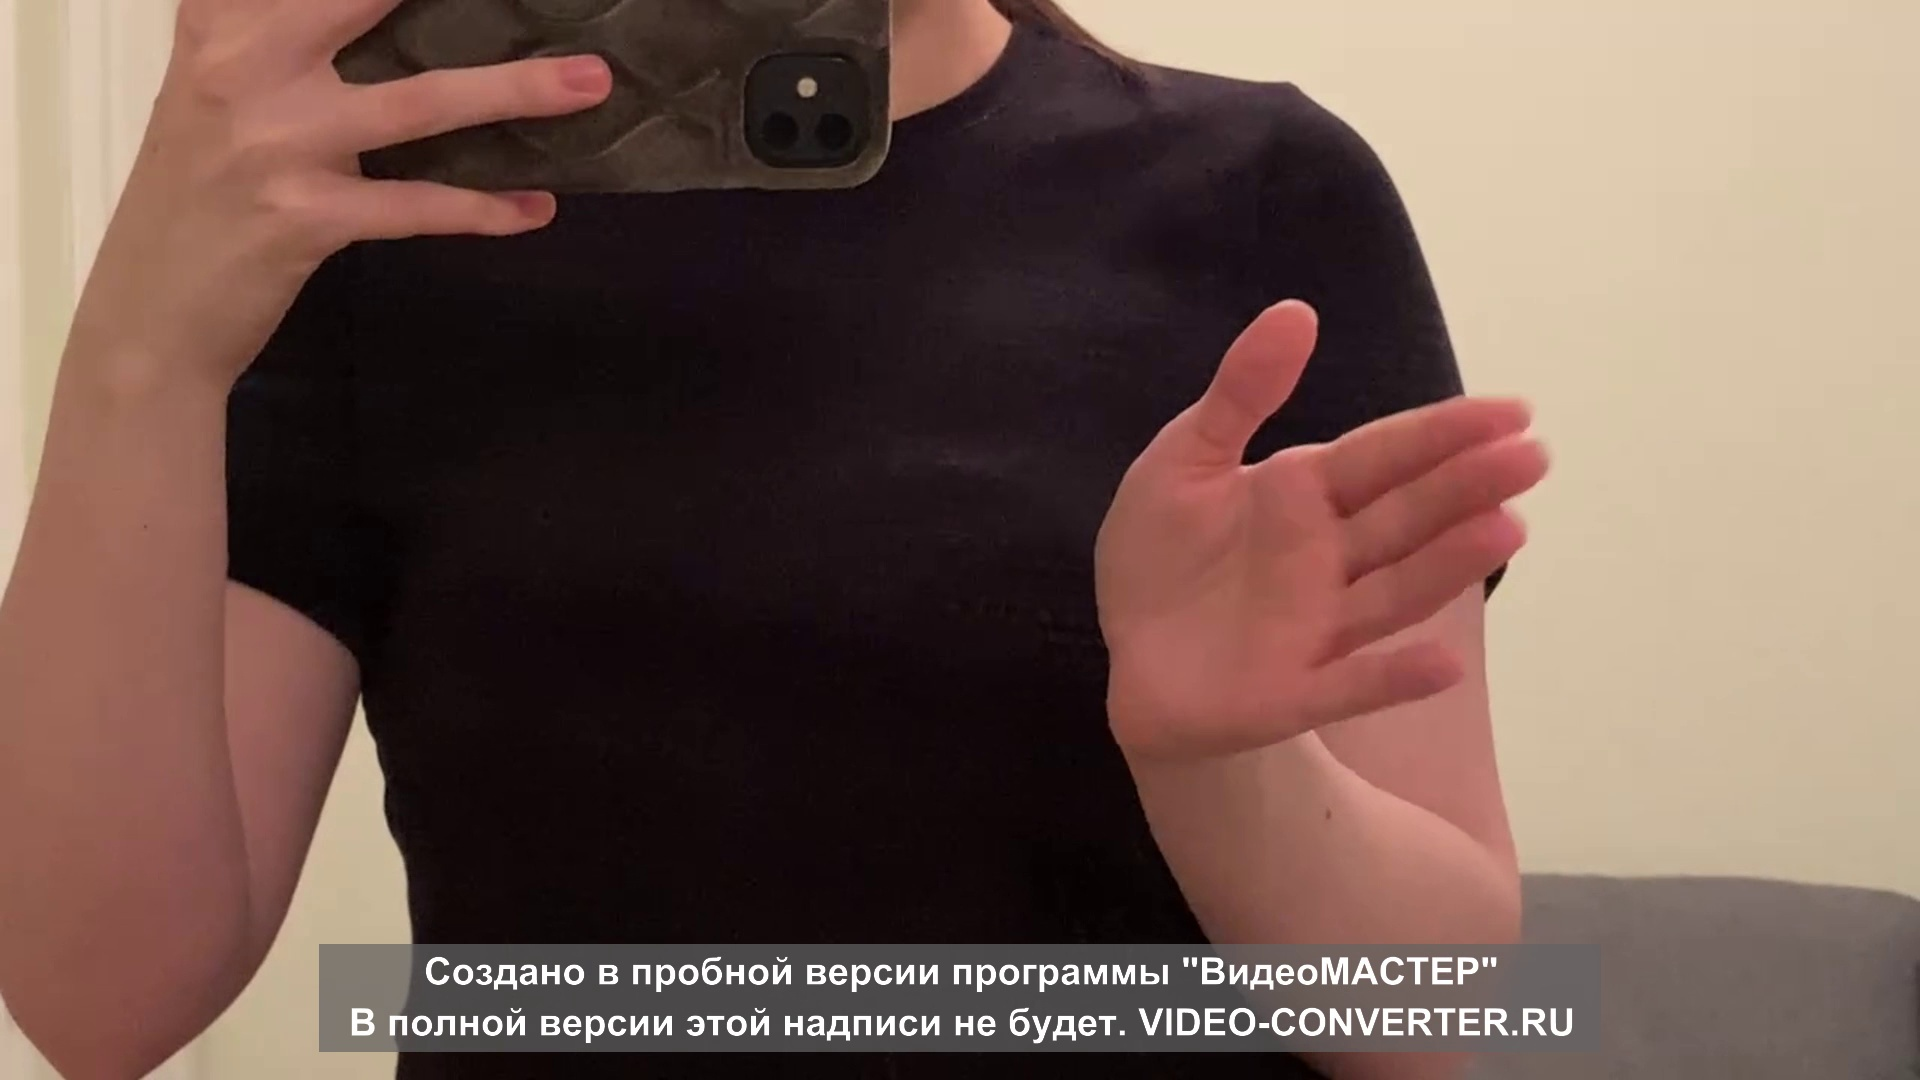Ладонь: (1088, 297, 1553, 749)
